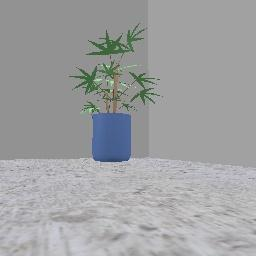planta: (69, 24, 161, 161)
